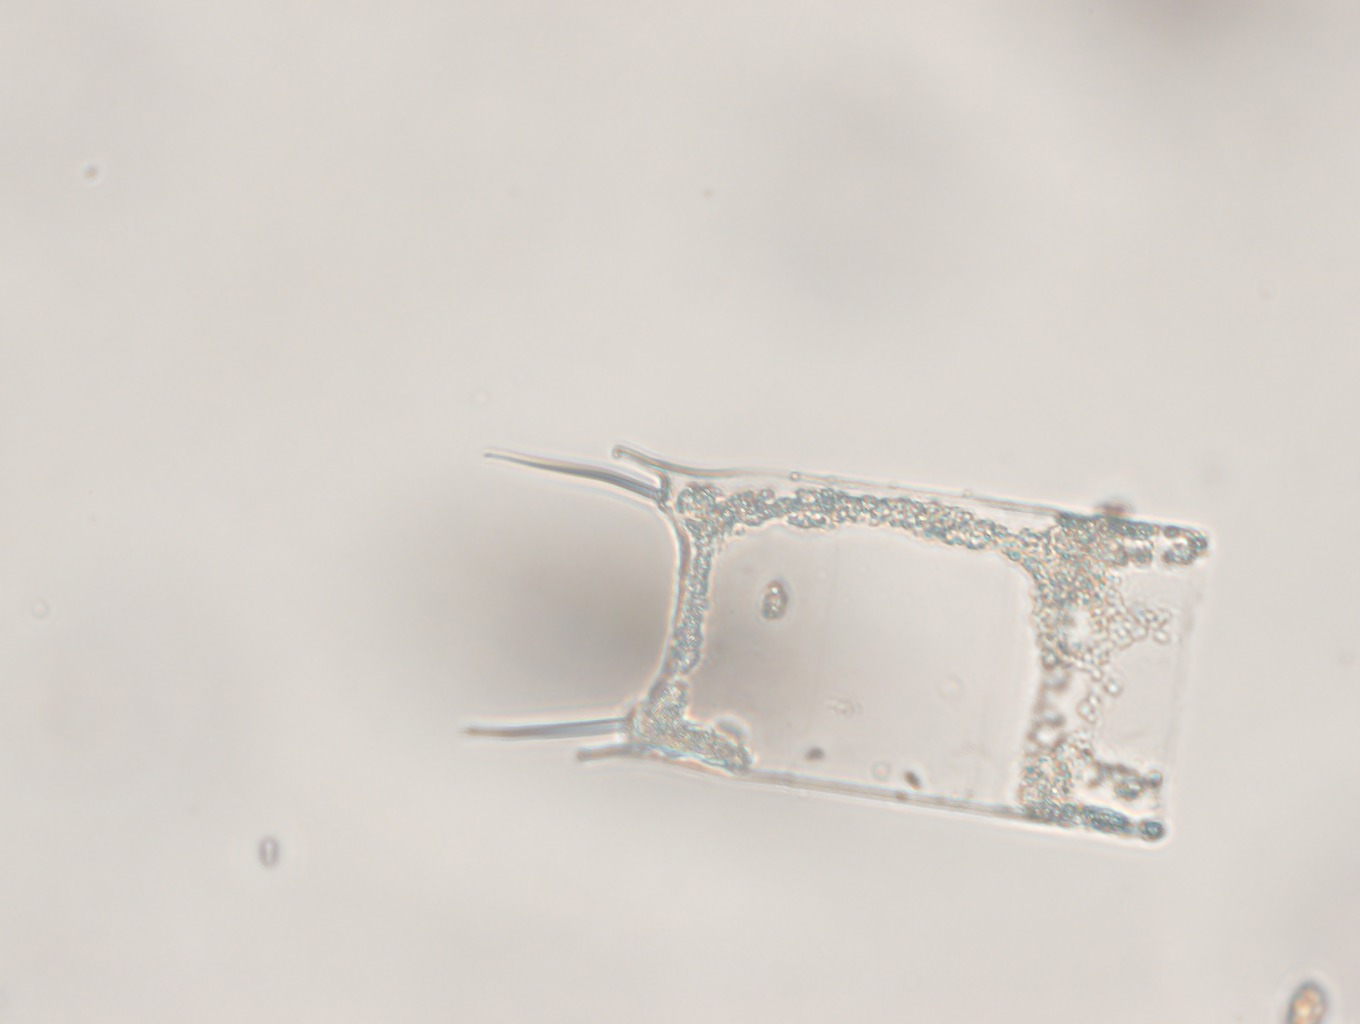biddulphia: (455, 425, 1225, 866)
